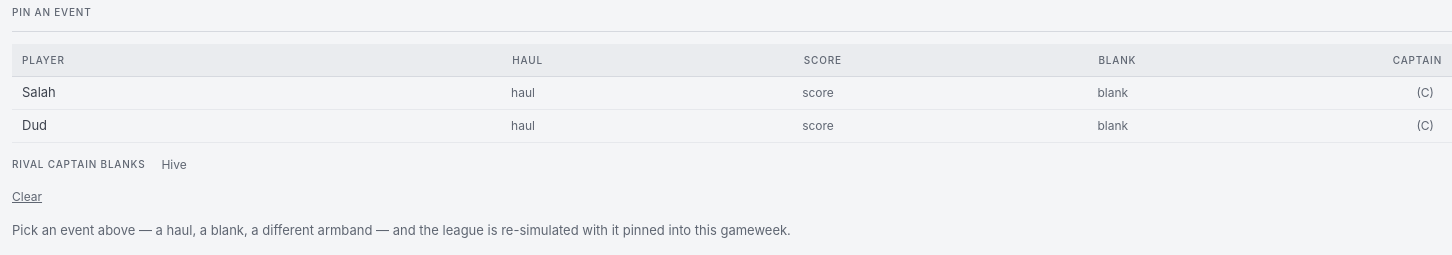
WhatIfSim › shows a retriable message when the endpoint is down
The width and height of the screenshot is (1452, 255).
Click the button with test id "pin-100-blank". click: point(1113, 92)
box: [1090,82,1136,102]
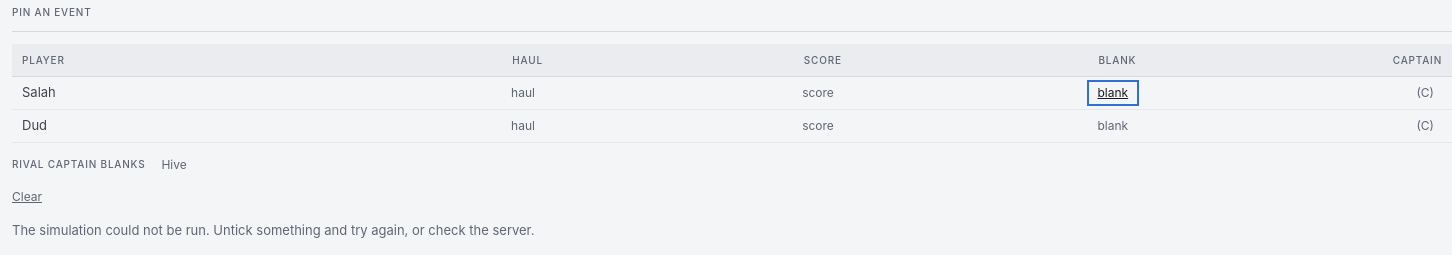
Expected: the text "could not be run" is shown, [12,222,534,238]
